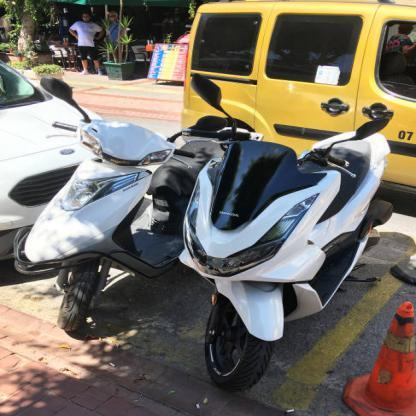Motorcycle: (190, 115, 371, 394), (31, 88, 186, 332)
